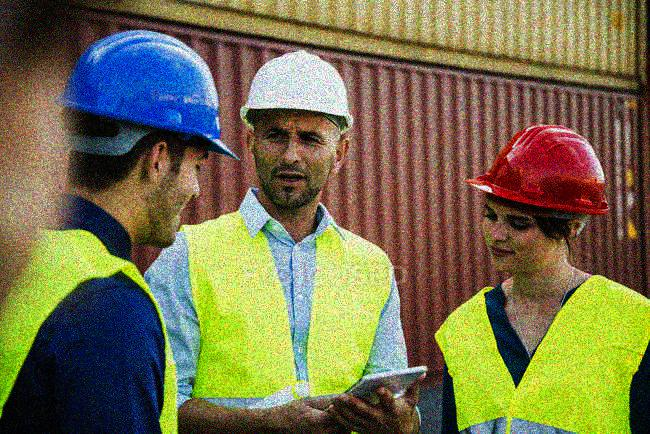helmet: (58, 28, 239, 247), (464, 125, 611, 270), (238, 50, 352, 205)
